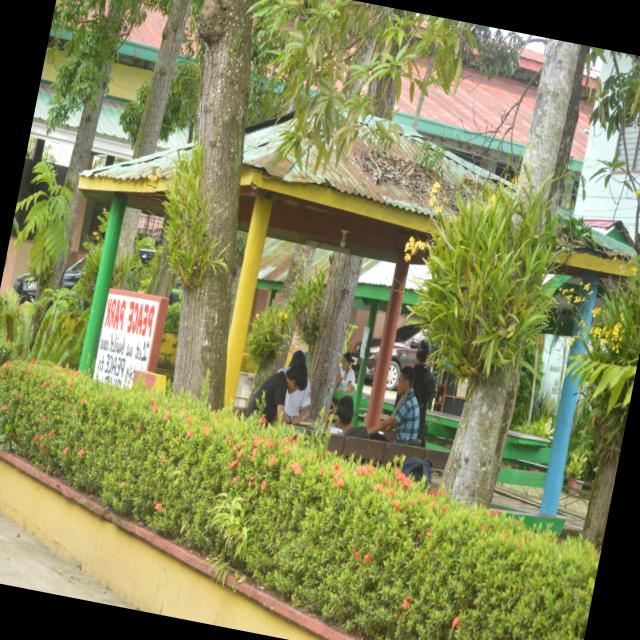person: (367, 366, 419, 444), (245, 363, 307, 423), (324, 396, 367, 438), (283, 381, 309, 424), (335, 353, 354, 391)
